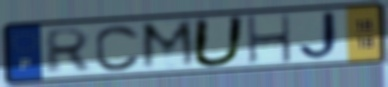C: (93, 23, 143, 73)
H: (244, 12, 295, 66)
J: (297, 9, 345, 63)
M: (139, 18, 200, 72)
R: (43, 26, 93, 76)
U: (189, 14, 249, 69)
